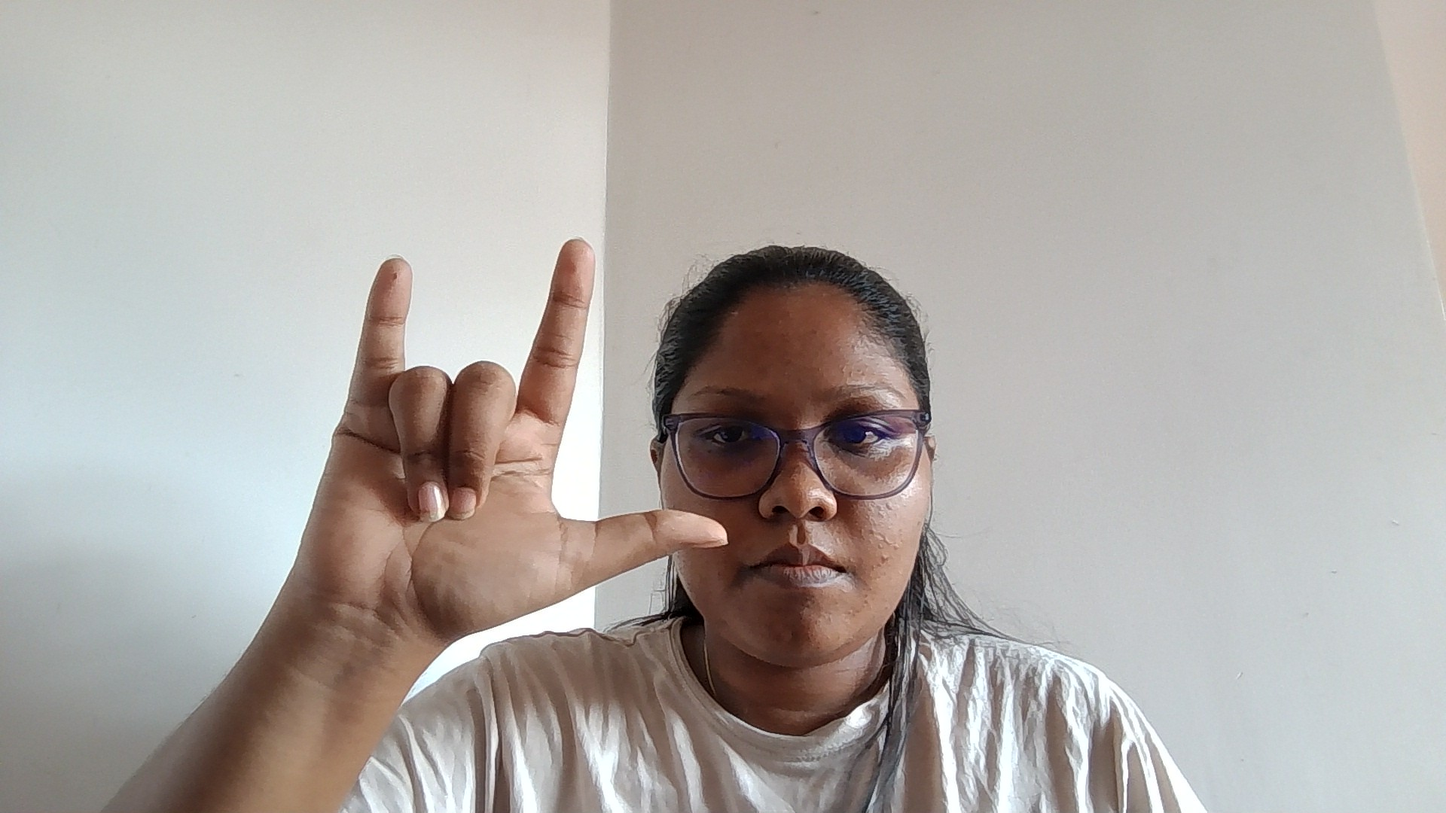I Love You: (301, 219, 699, 653)
